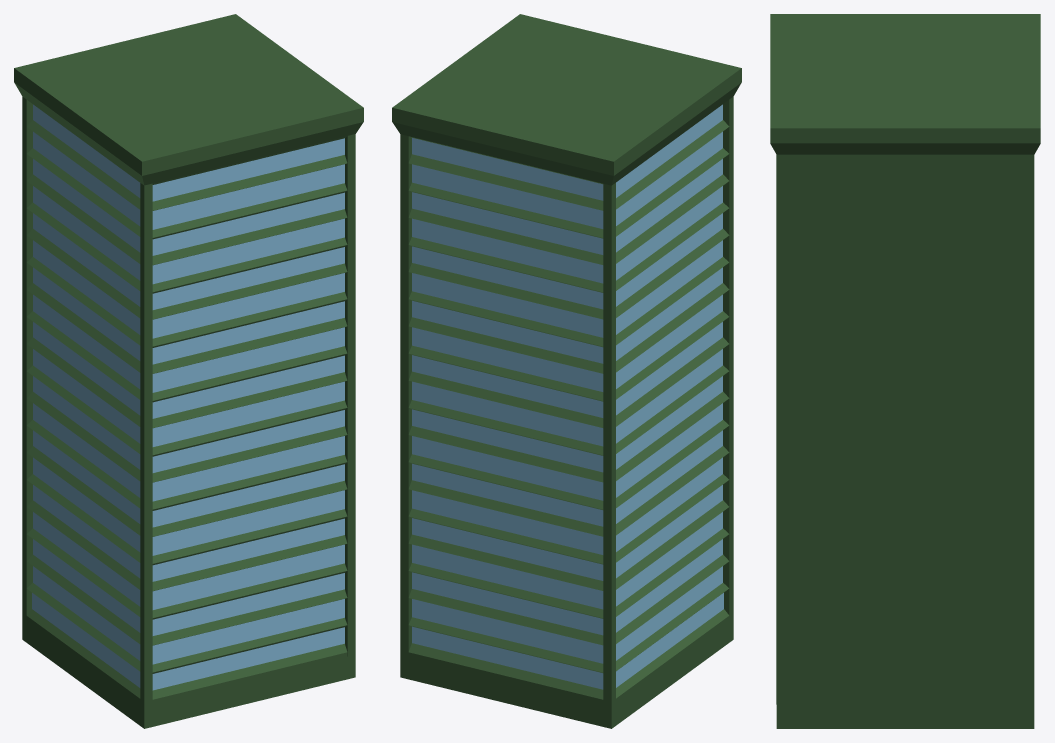
File: House2.fbx
3 renders of one model, left to right at view 1: azimuth 30°, elevation 25°; view 2: azimuth 150°, elevation 25°; view 3: azimuth 270°, elevation 25°, orthographic. The views are drawn at different scales.
Parts seen in each view (by area): view 1: Cube; view 2: Cube; view 3: Cube.
Boxes of the visible parts, left/top/right/bottom form: Cube: left=14, top=14, right=363, bottom=728; Cube: left=392, top=14, right=741, bottom=728; Cube: left=770, top=14, right=1040, bottom=728.
Bounding box in the file's own units: 1702 × 4186 × 1702.
